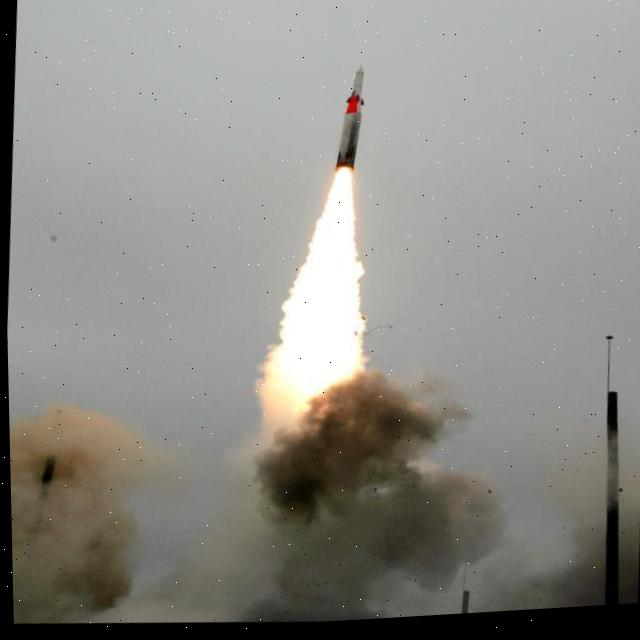missile: (313, 64, 378, 187)
